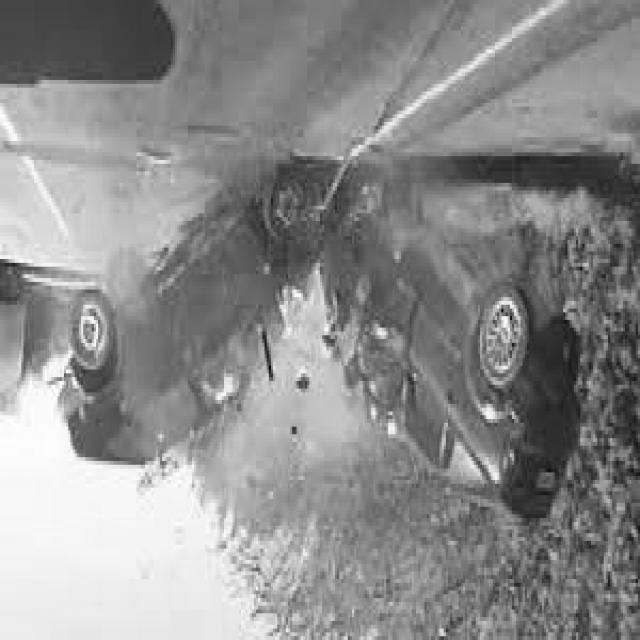severe: (52, 156, 584, 537)
